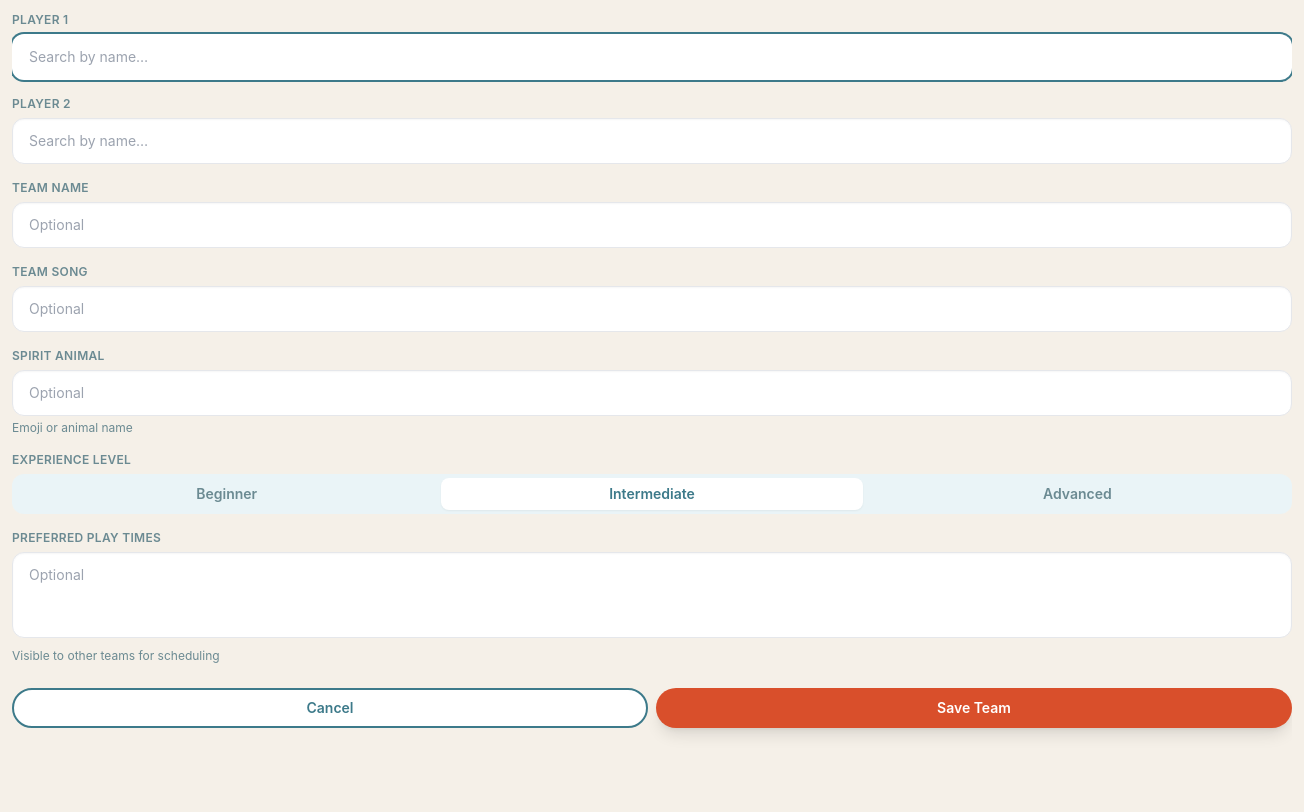
Test case: TeamForm player search › offers a placeholder only for a name that is not on the list
This screenshot has width=1304, height=812.
Type "Zed" into the field with placeholder "Search by name…" below "Player 1" at (652, 57), box [12,34,1292,80]
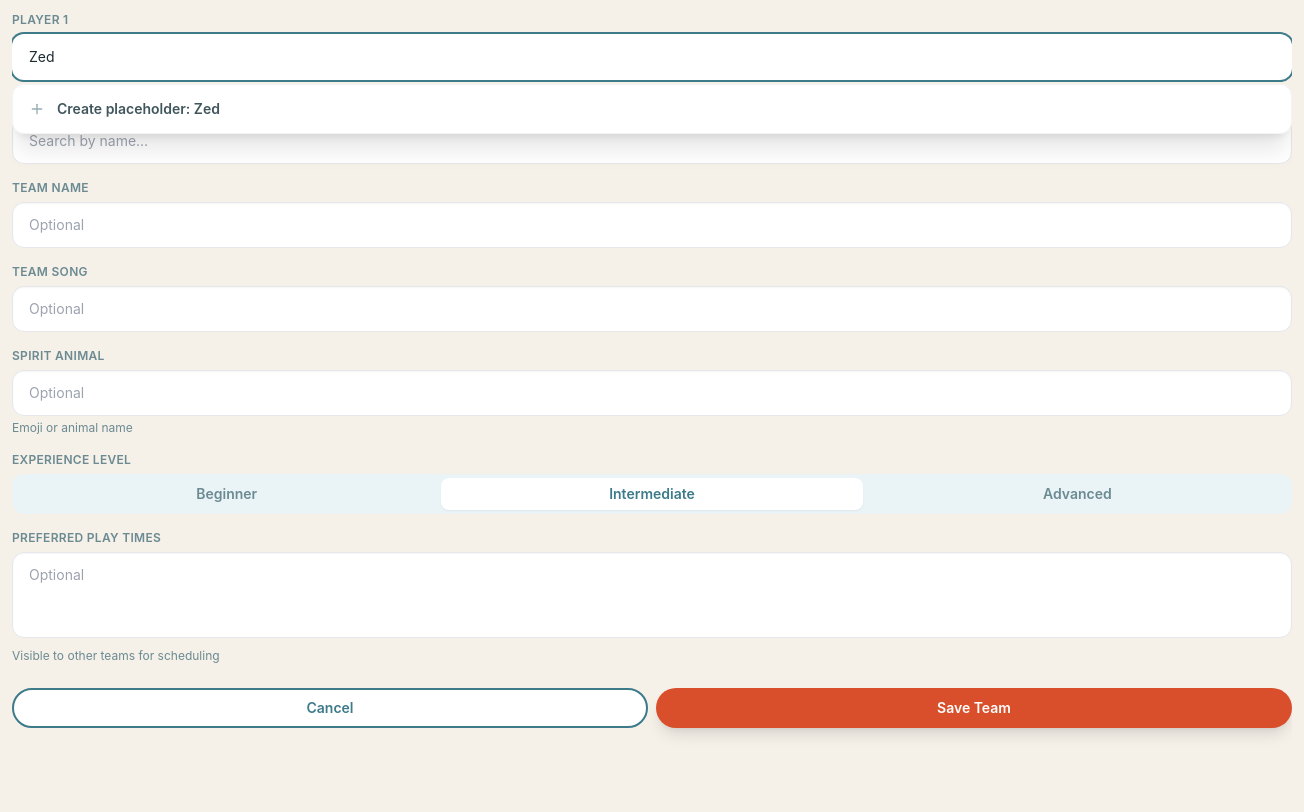
Now the menu item "Create placeholder: Zed" is shown, box [13,89,1291,129]
Replace the text in the field with placeholder "Search by name…" with "ana ruiz" at (652, 57), box [12,34,1292,80]
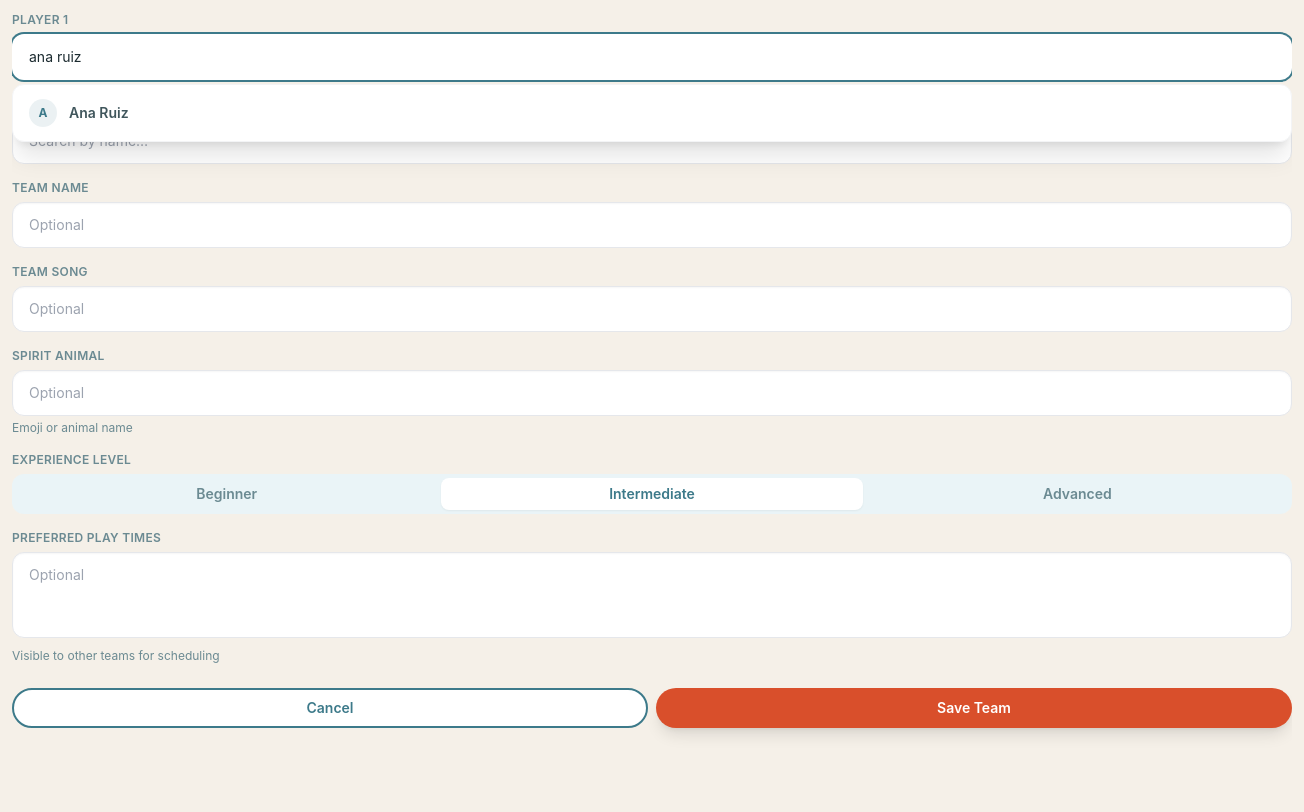
Now the menu item "Create placeholder" is gone
Now the menu item "A Ana Ruiz" is shown, box [13,89,1291,137]
